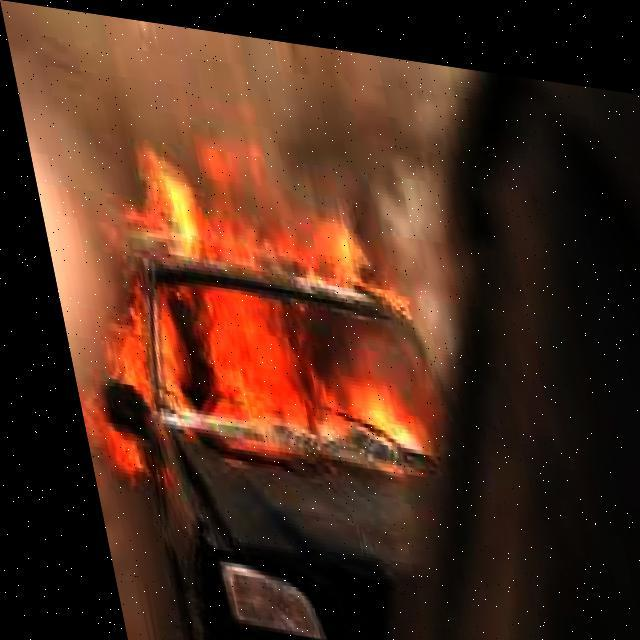Fire: (65, 130, 434, 473)
